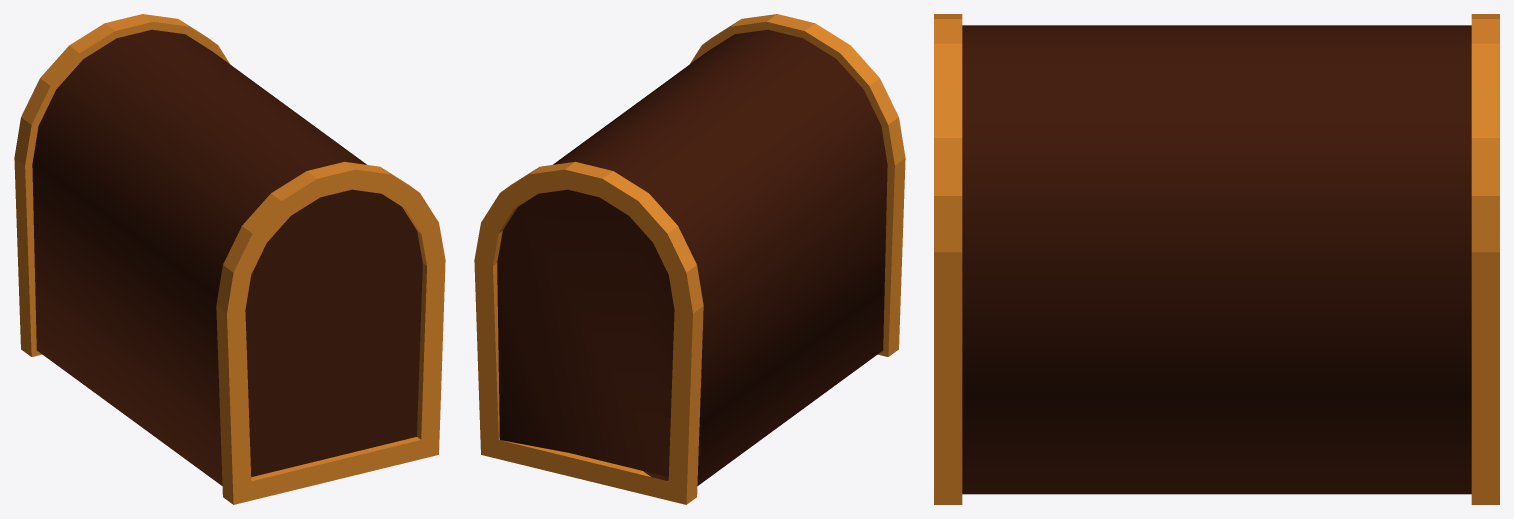
File: Chest_Static.FBX
The picture shows the model from 3 angles, left to right: view 1: azimuth 30°, elevation 25°; view 2: azimuth 150°, elevation 25°; view 3: azimuth 270°, elevation 25°; orthographic projection. The views are drawn at different scales.
Parts seen in each view (by area): view 1: Cylinder001; view 2: Cylinder001; view 3: Cylinder001.
Boxes of the visible parts, <box> form: Cylinder001: <box>14,14,445,504</box>; Cylinder001: <box>474,14,905,504</box>; Cylinder001: <box>934,14,1499,504</box>.
Bounding box in the file's own units: 59.3 × 99.86 × 79.24.
